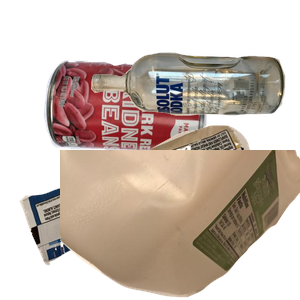glass: (88, 50, 300, 158)
metal: (41, 58, 240, 207)
plastic: (60, 150, 300, 300)
trash: (17, 123, 257, 300)
